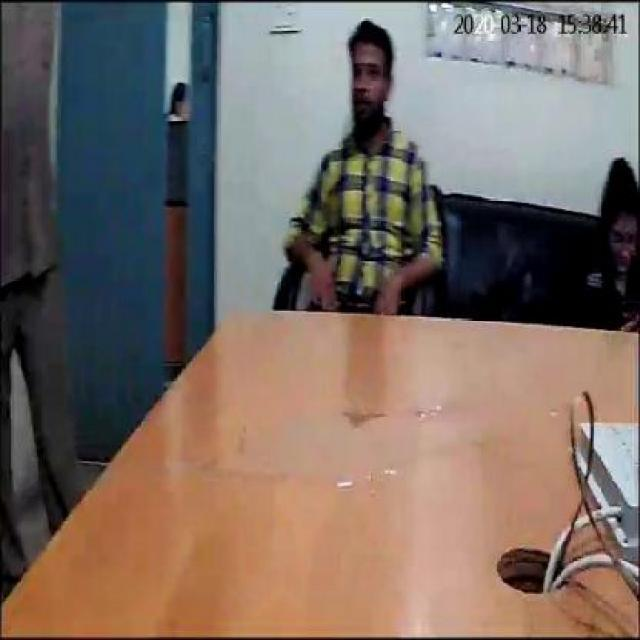spill: (228, 401, 484, 490)
